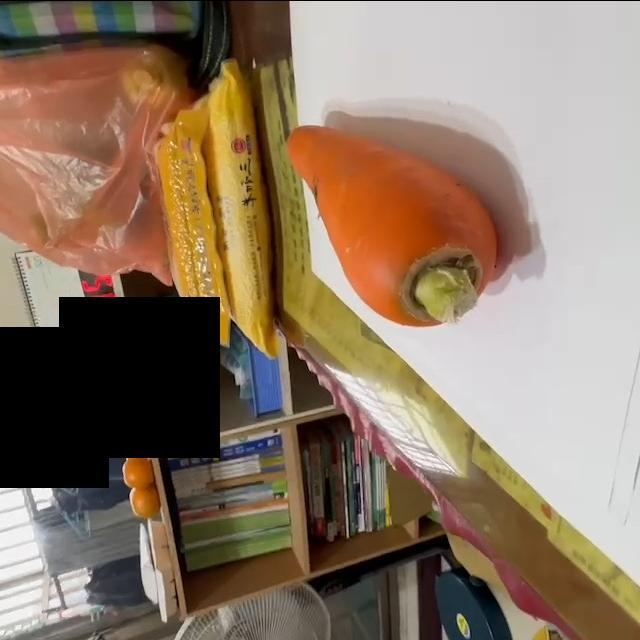carrot: (286, 126, 501, 327)
